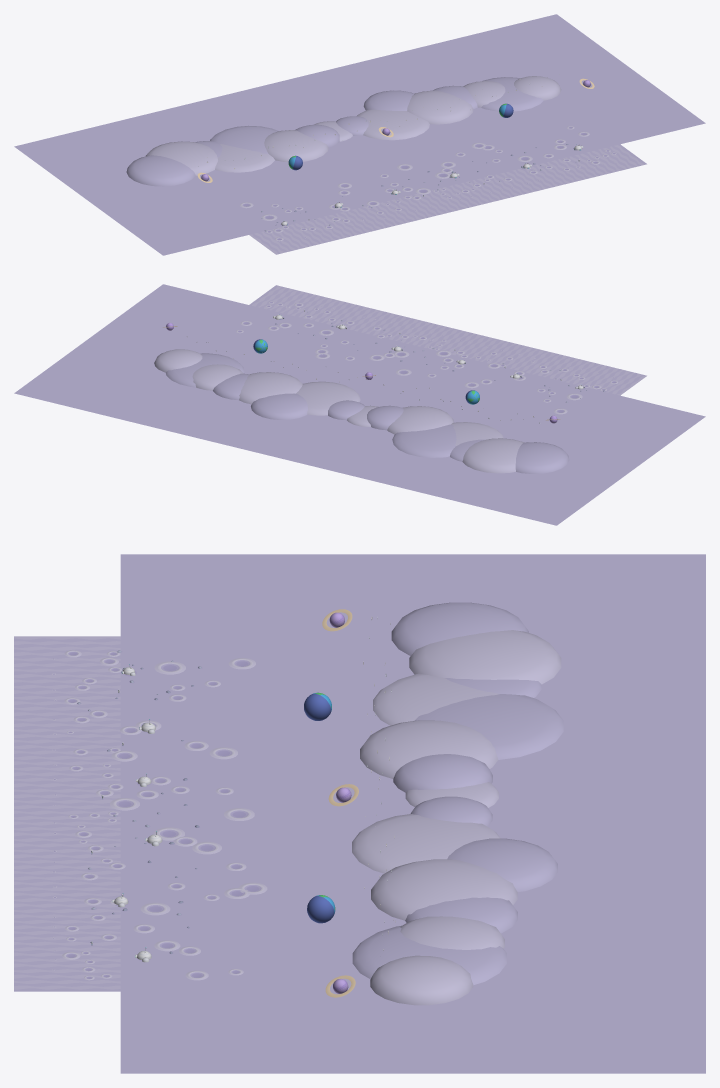
File: moon-far.glb
3 renders of one model, top to bottom at view 1: azimuth 30°, elevation 25°; view 2: azimuth 150°, elevation 25°; view 3: azimuth 270°, elevation 25°, orthographic. The views are drawn at different scales.
Visible parts, largest first — view 1: moon-far; view 2: moon-far; view 3: moon-far.
Boxes of the visible parts, x1,y1,x2,y2 form: moon-far: (14, 14, 705, 255); moon-far: (14, 284, 705, 525); moon-far: (14, 554, 705, 1073).
Bounding box in the file's own units: 1900 × 80.93 × 1070.
